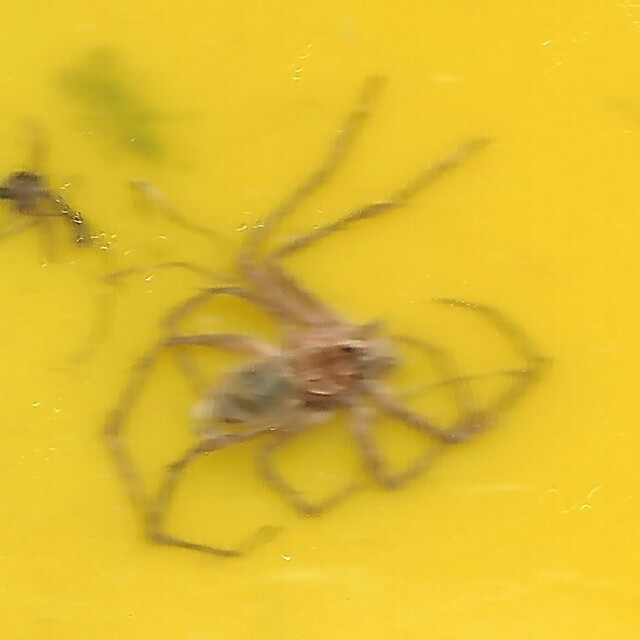Hymenoptera: (95, 81, 545, 559)
